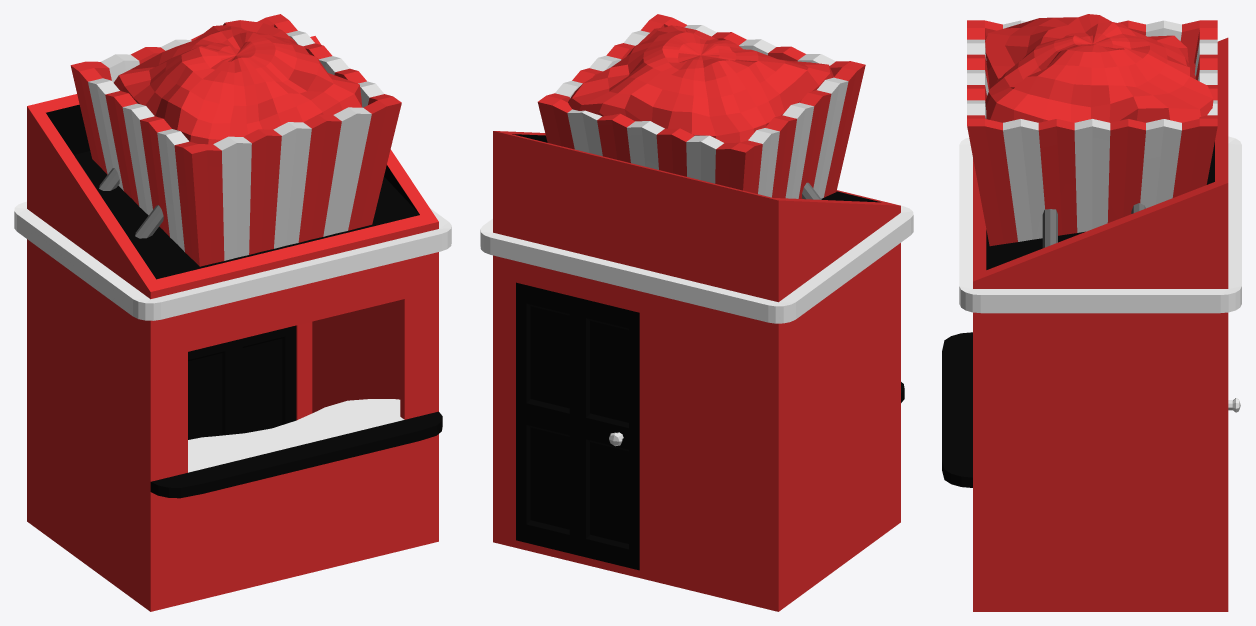
The model's file is New_Stand_porncop.fbx.
The picture shows the model from 3 angles, left to right: view 1: azimuth 30°, elevation 25°; view 2: azimuth 150°, elevation 25°; view 3: azimuth 270°, elevation 25°; orthographic projection. The views are drawn at different scales.
Parts seen in each view (by area): view 1: stand_base.001, Sphere, kapı.001; view 2: stand_base.001, Sphere, kapı.001; view 3: stand_base.001, Sphere, direk.003.
Boxes of the visible parts, bbox=[...] form: stand_base.001: bbox=[14, 36, 451, 611]; Sphere: bbox=[70, 14, 401, 266]; kapı.001: bbox=[188, 325, 296, 439]; stand_base.001: bbox=[480, 131, 913, 611]; Sphere: bbox=[537, 14, 865, 198]; kapı.001: bbox=[516, 282, 639, 570]; stand_base.001: bbox=[942, 37, 1241, 611]; Sphere: bbox=[967, 14, 1217, 246]; direk.003: bbox=[1042, 209, 1057, 248].
Size of the model in its own units: 242 by 357 by 193.
